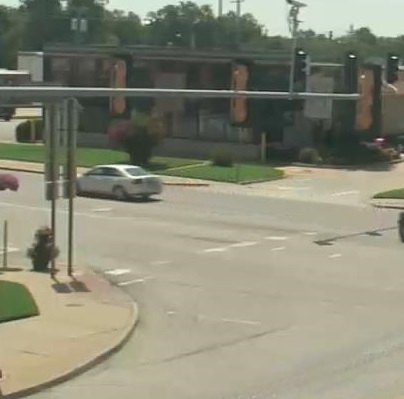vehicle: (65, 159, 167, 205)
